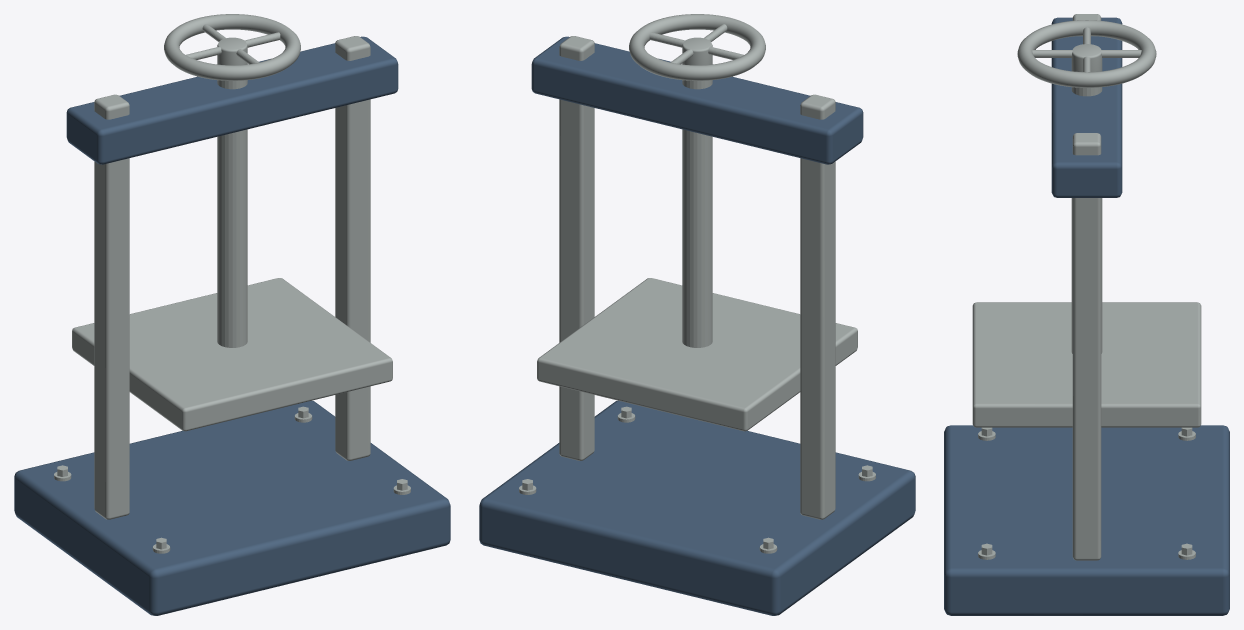
File: spacecraft-parachute-packing-hall-spacecraft-parachute-3db134de__32094.glb
3 views of the same model, side by side, from view 1: azimuth 30°, elevation 25°; view 2: azimuth 150°, elevation 25°; view 3: azimuth 270°, elevation 25° (orthographic).
Parts seen in each view (by area): view 1: spacecraft-parachute-packing-hall-compression-fixture; view 2: spacecraft-parachute-packing-hall-compression-fixture; view 3: spacecraft-parachute-packing-hall-compression-fixture.
Part boxes in pixels (x1,y1,x2,y2): spacecraft-parachute-packing-hall-compression-fixture: (14, 14, 450, 615); spacecraft-parachute-packing-hall-compression-fixture: (479, 14, 915, 615); spacecraft-parachute-packing-hall-compression-fixture: (944, 14, 1229, 615).
Size of the model in its own units: 0.8 by 1.25 by 0.65.
